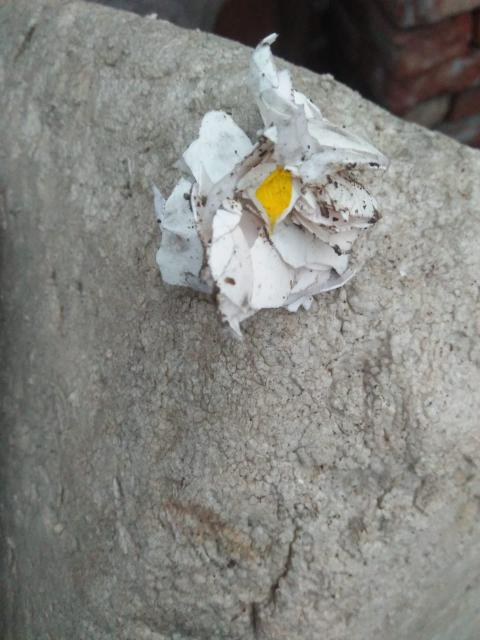Roto: (153, 31, 390, 342)
